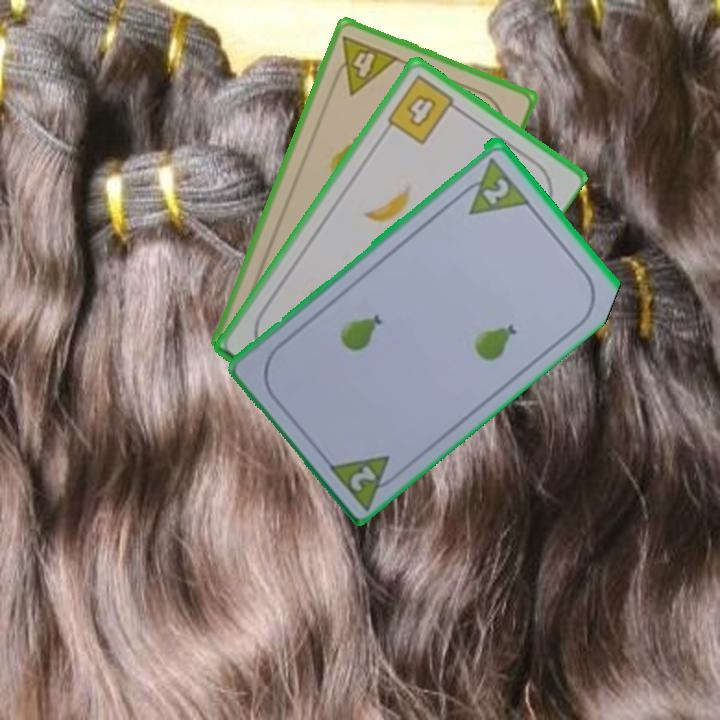2p: (453, 152, 531, 218), (323, 450, 406, 511)
4b: (383, 71, 464, 148)
4p: (326, 31, 402, 98)
